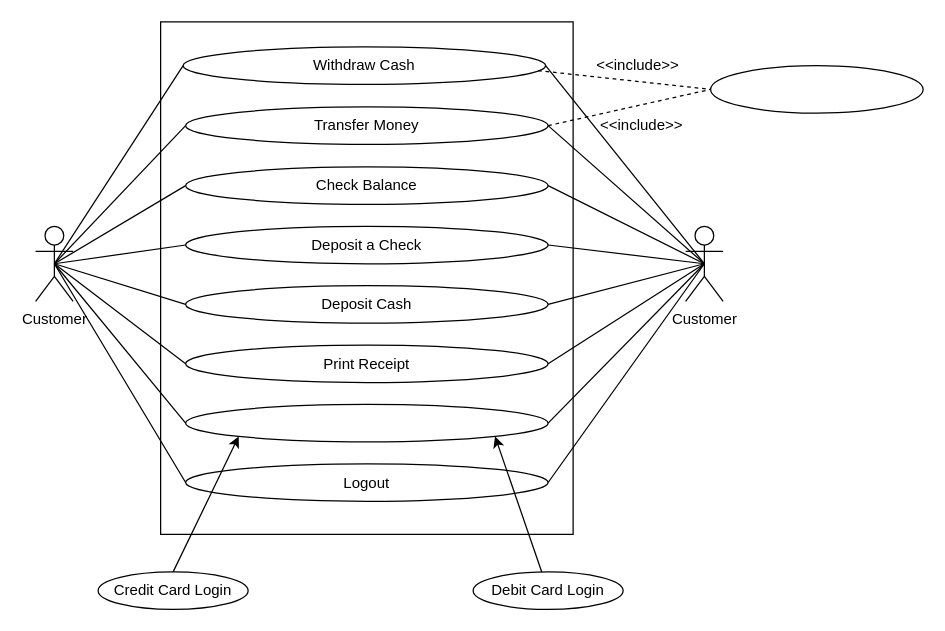
This 945x631 diagram has some shape labels left out. The box of each missing label's shape, as (x1, y1, x2, y2) in pixels:
Check exceeding Balance: (709, 64, 923, 113)
Login: (184, 403, 548, 442)
